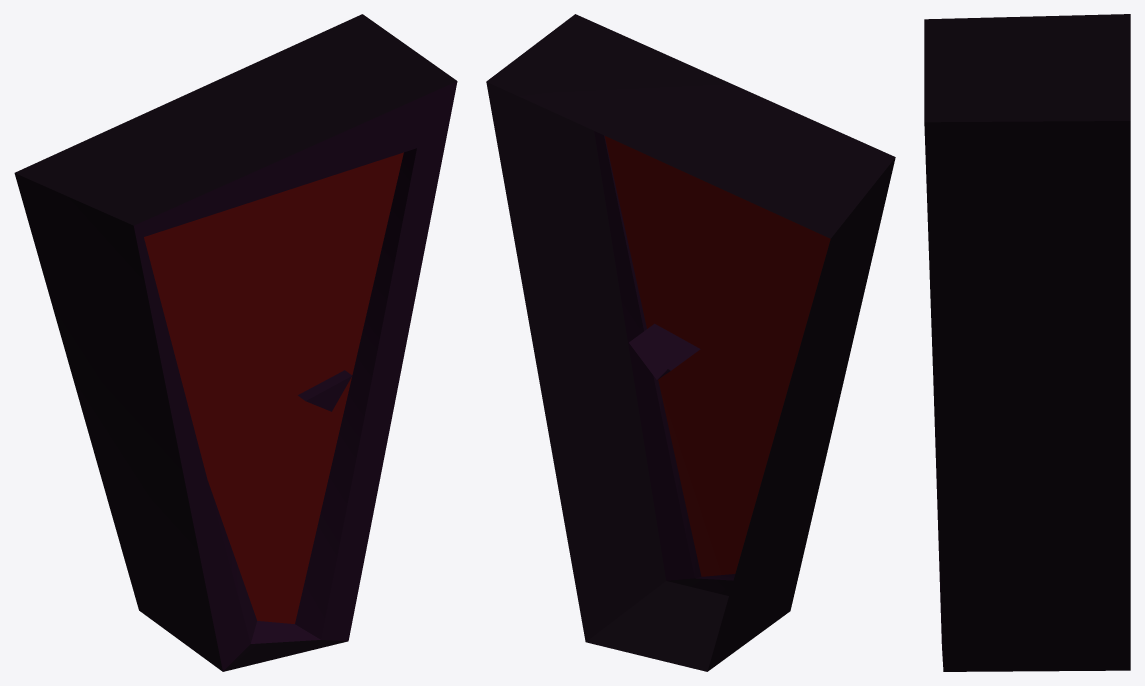
The model's file is c_house_door_ab.fbx.
The picture shows the model from 3 angles, left to right: view 1: azimuth 30°, elevation 25°; view 2: azimuth 150°, elevation 25°; view 3: azimuth 270°, elevation 25°; orthographic projection. The views are drawn at different scales.
Parts seen in each view (by area): view 1: c_house_door_ab; view 2: c_house_door_ab; view 3: c_house_door_ab.
Boxes of the visible parts, left/top/right/bottom form: c_house_door_ab: left=14, top=14, right=457, bottom=671; c_house_door_ab: left=486, top=14, right=895, bottom=671; c_house_door_ab: left=924, top=14, right=1130, bottom=671.
Bounding box in the file's own units: 1.6 × 2.37 × 0.7326.
